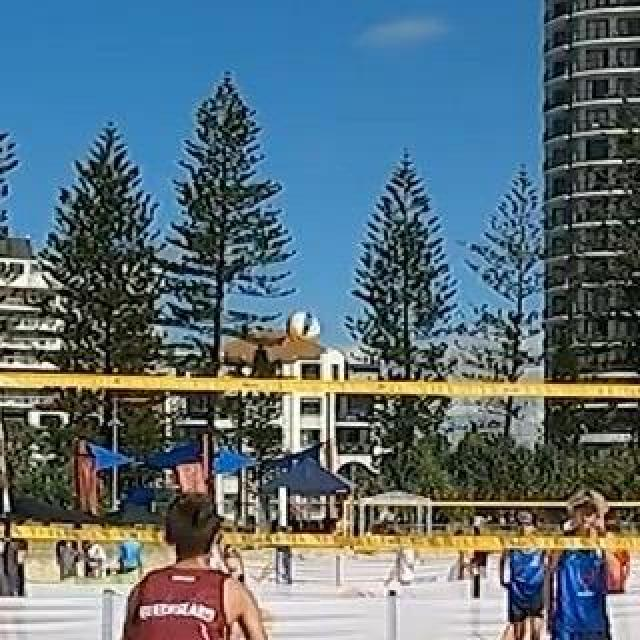volleyball: (286, 310, 320, 346)
